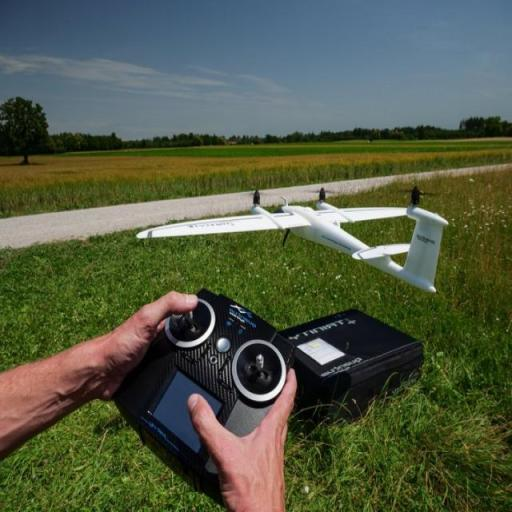uav: (130, 187, 456, 290)
